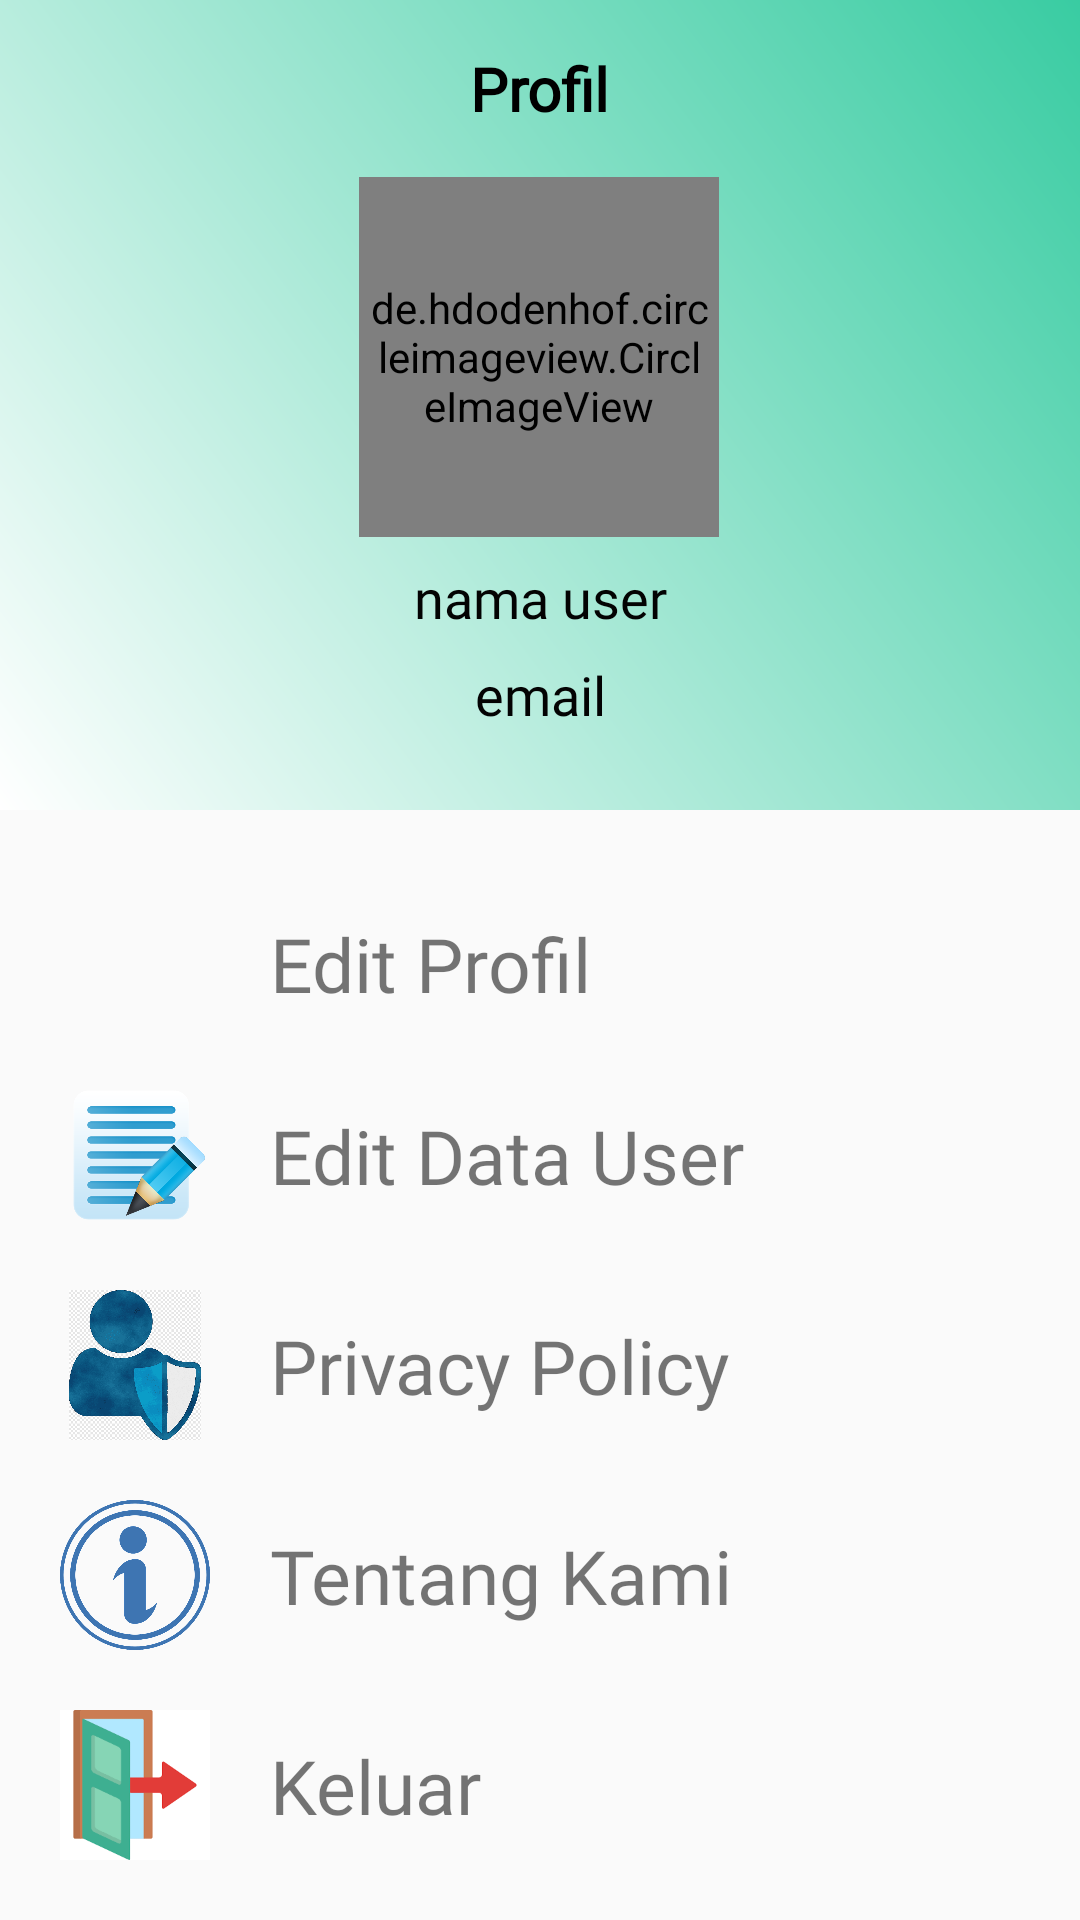

Named icons in this screenshot (1080px x 1920px) and their bounding boxes, (x1, y1, x2, y2):
log: (73, 1710, 197, 1860)
